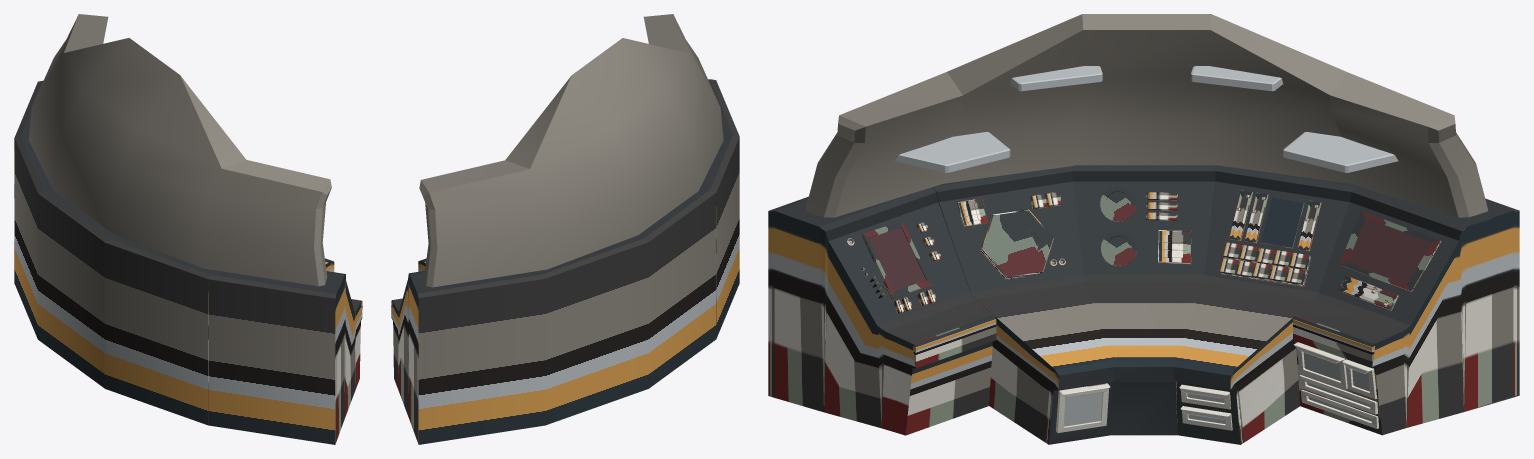
Rendered from NewDesk.fbx.
3 views of the same model, side by side, from view 1: azimuth 30°, elevation 25°; view 2: azimuth 150°, elevation 25°; view 3: azimuth 270°, elevation 25° (orthographic). The views are drawn at different scales.
Visible parts, largest first — view 1: DeskBacking, Desk01_Short, Desk01_Drawer, Desk01_Plain, Desk01_TwoDrawers, Desk01_ShortDrawers; view 2: DeskBacking, Desk01_ShortDrawers, Desk01_TwoDrawers, Desk01_Plain, Desk01_Drawer, Desk01_Short; view 3: DeskBacking, Desk01_Short, Desk01_ShortDrawers, DeskDetail01 (×5), Desk01_Drawer, Desk01_TwoDrawers, Desk01_Plain, DeskShelves, Desk01_Drawer01, Desk01_ShortDrawers01, Desk01_ShortDrawers03, Desk01_ShortDrawers04 (+3 smaller).
Part boxes in pixels (bbox=[...]): DeskBacking: bbox=[28, 14, 331, 286]; Desk01_Short: bbox=[208, 270, 362, 444]; Desk01_Drawer: bbox=[104, 236, 334, 425]; Desk01_Plain: bbox=[38, 189, 118, 388]; Desk01_TwoDrawers: bbox=[14, 135, 52, 338]; Desk01_ShortDrawers: bbox=[14, 80, 43, 283]; DeskBacking: bbox=[419, 14, 723, 287]; Desk01_ShortDrawers: bbox=[391, 271, 545, 444]; Desk01_TwoDrawers: bbox=[418, 236, 648, 425]; Desk01_Plain: bbox=[637, 188, 716, 388]; Desk01_Drawer: bbox=[700, 134, 739, 339]; Desk01_Short: bbox=[708, 79, 739, 136]; DeskBacking: bbox=[805, 14, 1488, 217]; Desk01_Short: bbox=[768, 187, 996, 435]; Desk01_ShortDrawers: bbox=[1293, 185, 1519, 435]; DeskDetail01 (×5): bbox=[847, 186, 1441, 314]; Desk01_Drawer: bbox=[933, 166, 1114, 444]; Desk01_TwoDrawers: bbox=[1174, 165, 1355, 444]; Desk01_Plain: bbox=[1071, 165, 1217, 435]; DeskShelves: bbox=[895, 66, 1398, 172]; Desk01_Drawer01: bbox=[1056, 383, 1110, 432]; Desk01_ShortDrawers01: bbox=[1293, 342, 1347, 388]; Desk01_ShortDrawers03: bbox=[1299, 375, 1377, 414]; Desk01_ShortDrawers04: bbox=[1300, 389, 1378, 428].
Size of the model in its own units: 23.71 by 28.33 by 53.17.
